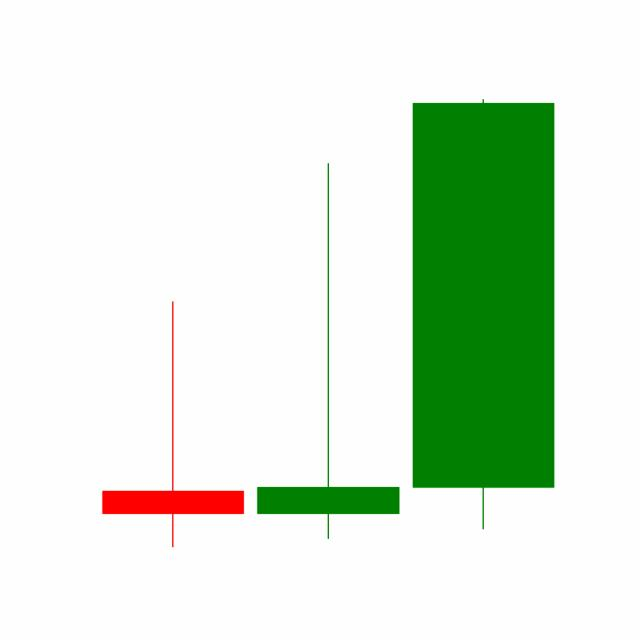Marubozu: (405, 94, 561, 534)
